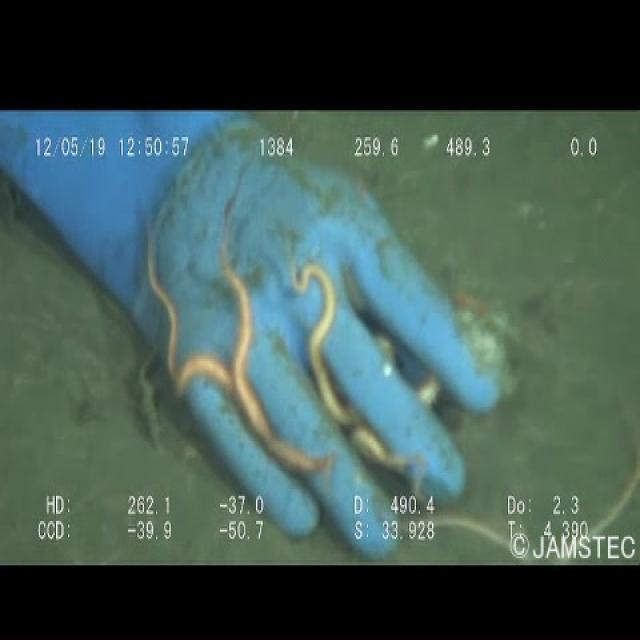plastic: (0, 110, 505, 558)
